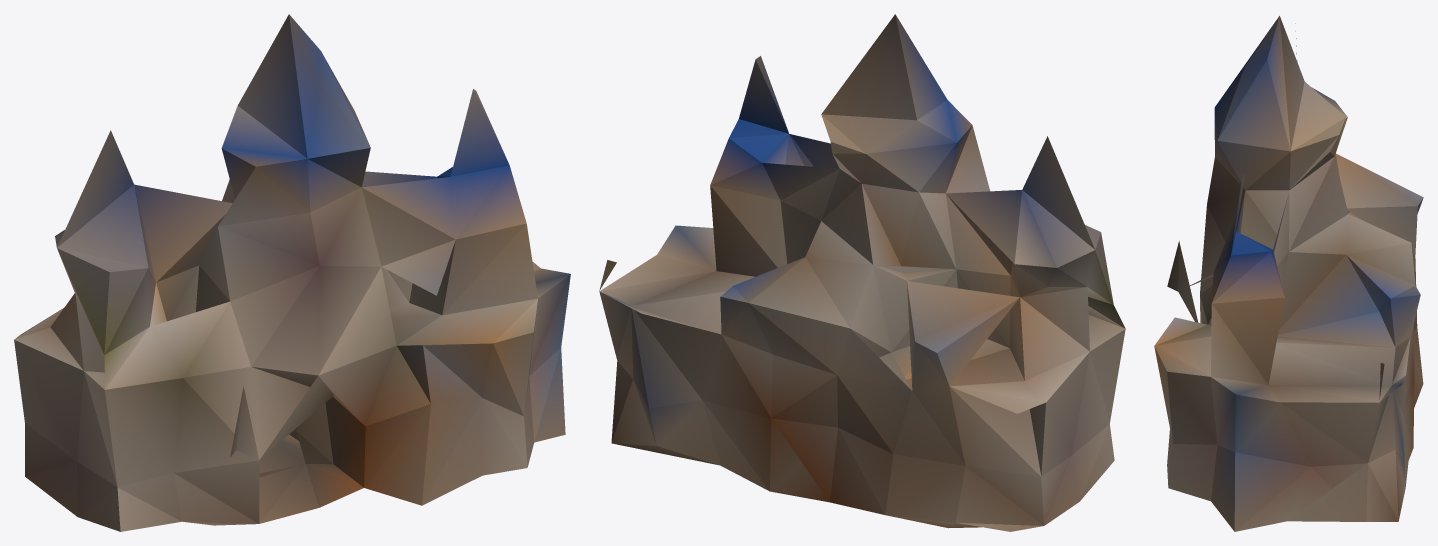
The model's file is castle-arcade.glb.
3 renders of one model, left to right at view 1: azimuth 30°, elevation 25°; view 2: azimuth 150°, elevation 25°; view 3: azimuth 270°, elevation 25°, orthographic. The views are drawn at different scales.
Parts seen in each view (by area): view 1: castle-arcade-far; view 2: castle-arcade-far; view 3: castle-arcade-far.
Boxes of the visible parts, x1=… form: castle-arcade-far: x1=14, y1=14, x2=570, y2=531; castle-arcade-far: x1=599, y1=14, x2=1125, y2=531; castle-arcade-far: x1=1154, y1=16, x2=1423, y2=531.
Bounding box in the file's own units: 25.02 × 23.27 × 13.84.
